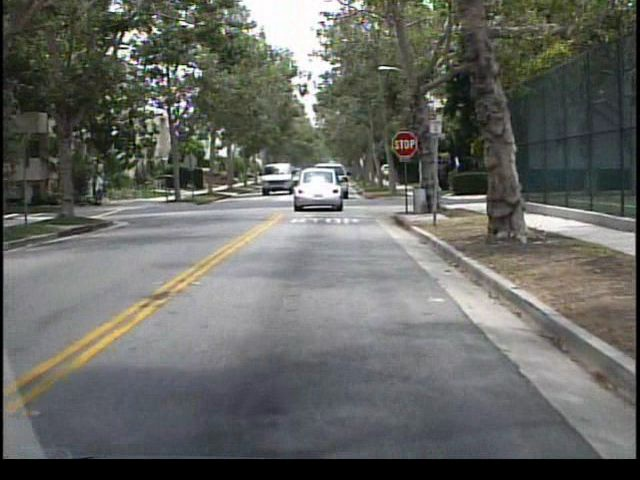person: (79, 165, 91, 208), (97, 165, 109, 208)
